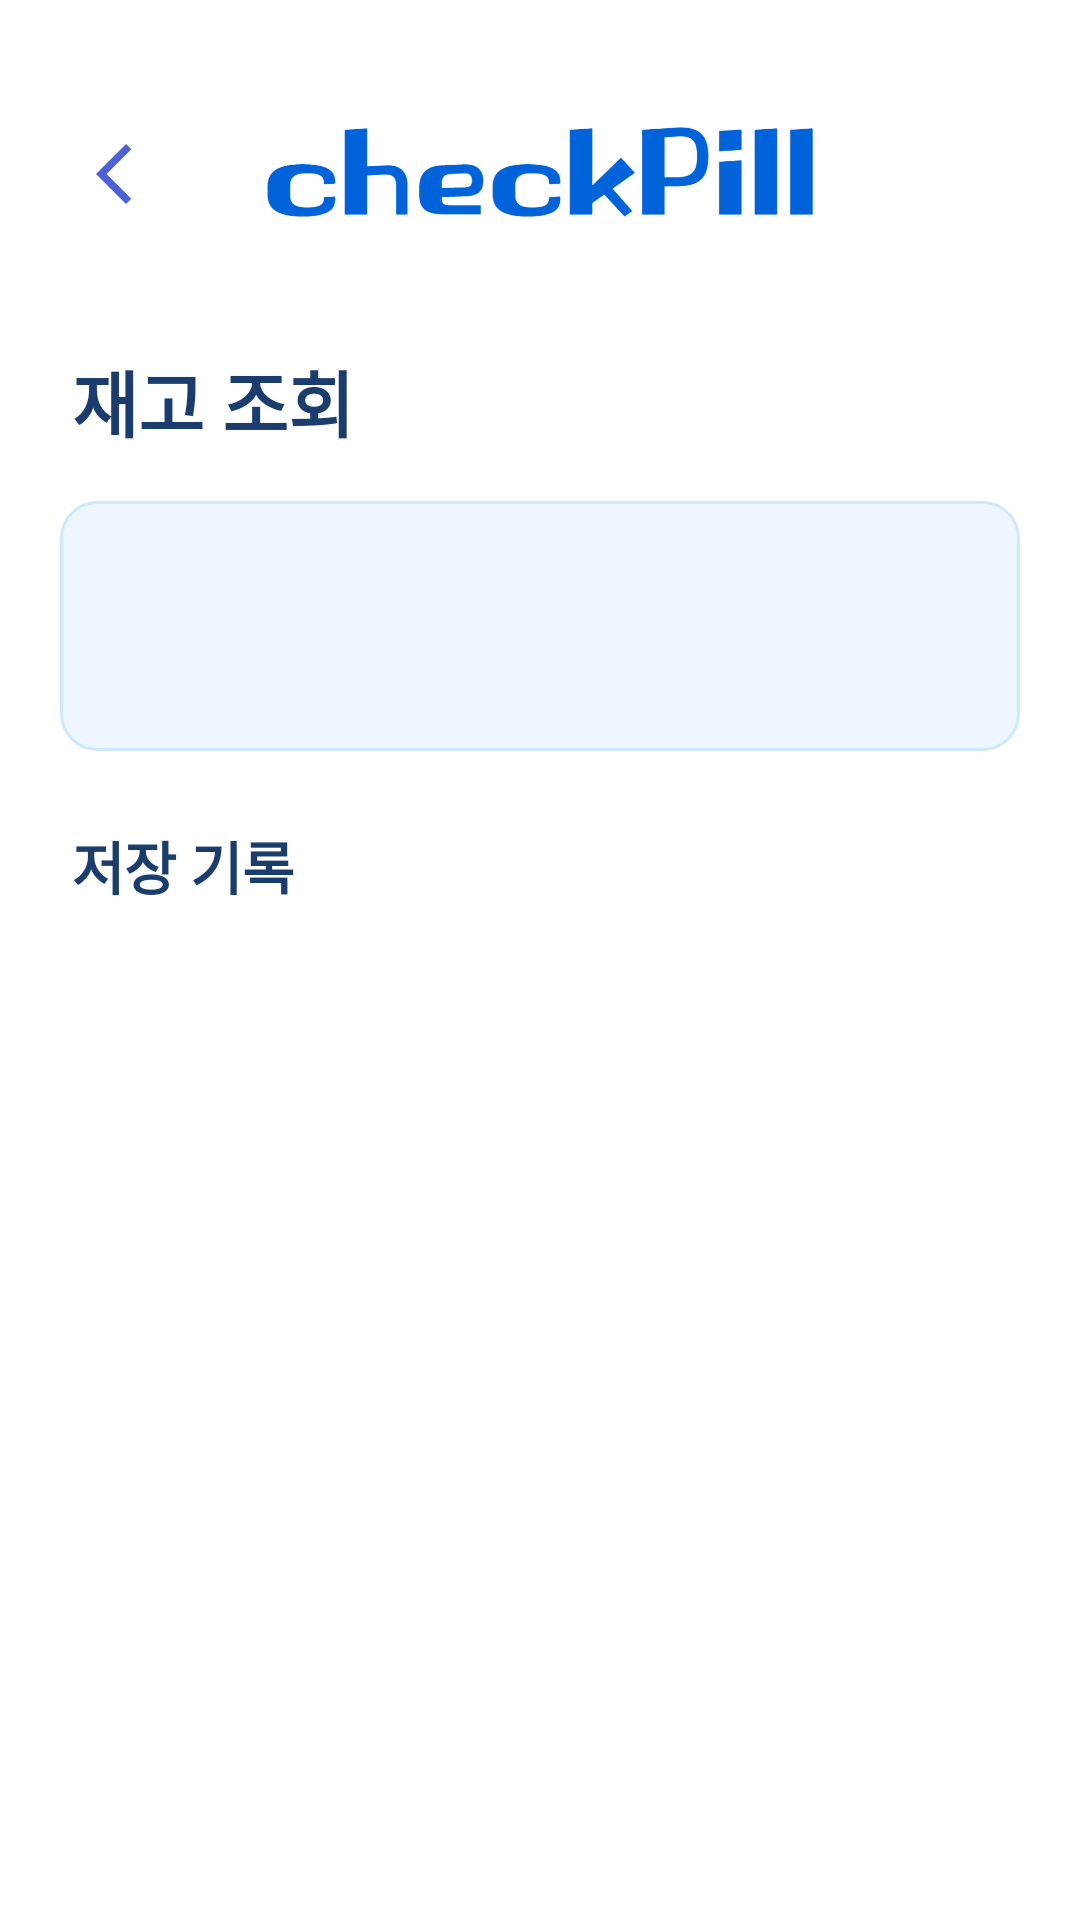

Icon bounding boxes for this 1080 x 1920 phone screenshot, format (x1, y1, x2, y2):
뒤로가기: (96, 144, 131, 204)
